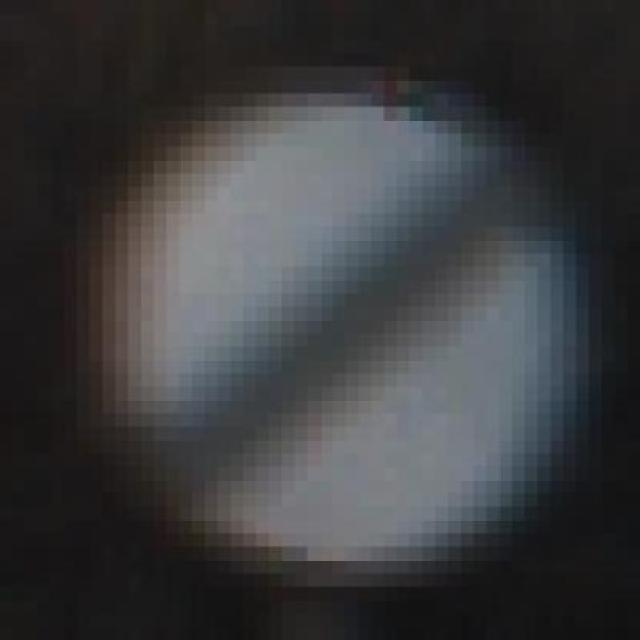End of all speed and passing limits: (77, 53, 589, 601)
